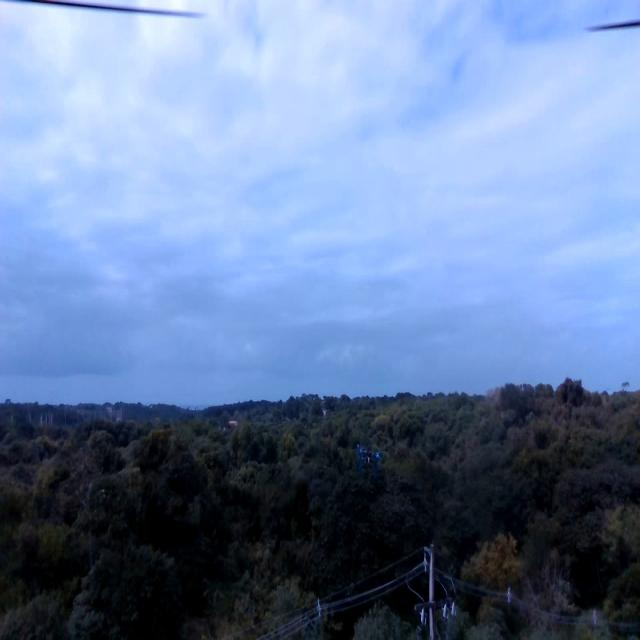-uav-: (353, 439, 384, 487)
